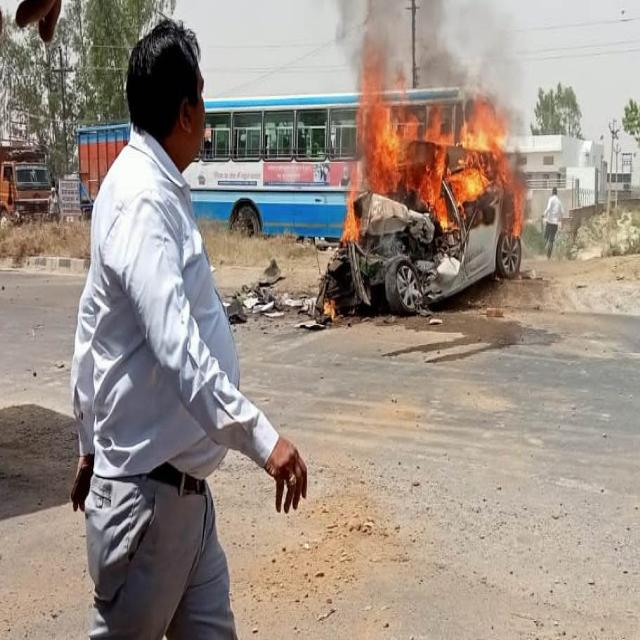accident: (316, 93, 522, 317)
bus: (185, 93, 358, 237)
